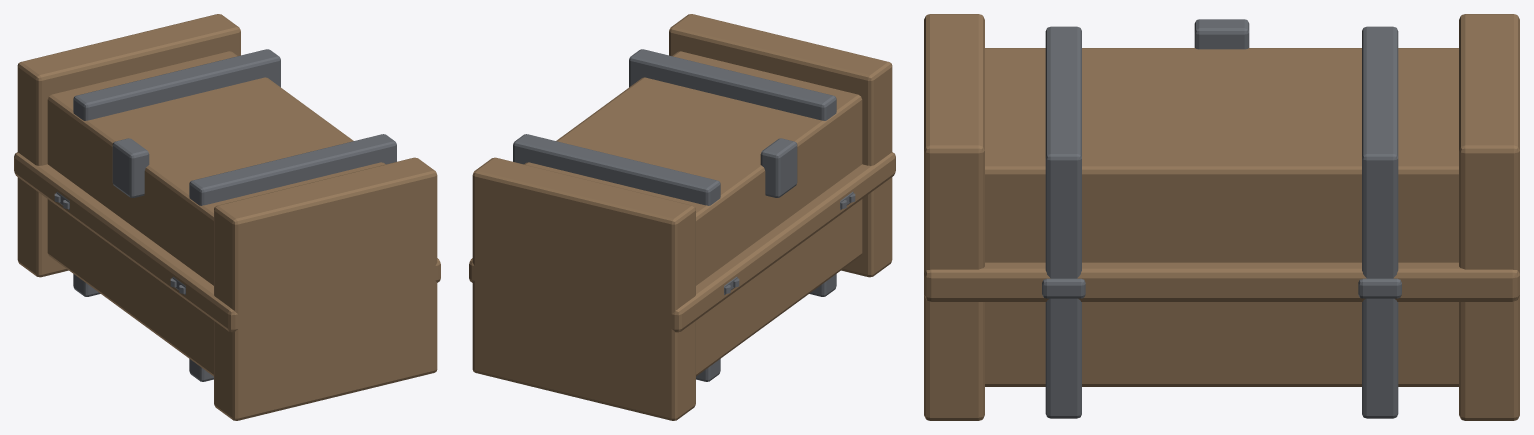
File: monastery_monks_chest.glb
3 renders of one model, left to right at view 1: azimuth 30°, elevation 25°; view 2: azimuth 150°, elevation 25°; view 3: azimuth 270°, elevation 25°, orthographic. The views are drawn at different scales.
Visible parts, largest first — view 1: world; view 2: world; view 3: world.
Part boxes in pixels (box(x1,y1,x2,y2)): world: box(14, 14, 440, 420); world: box(469, 14, 895, 420); world: box(924, 14, 1519, 420).
Bounding box in the file's own units: 1.17 × 1.02 × 2.
